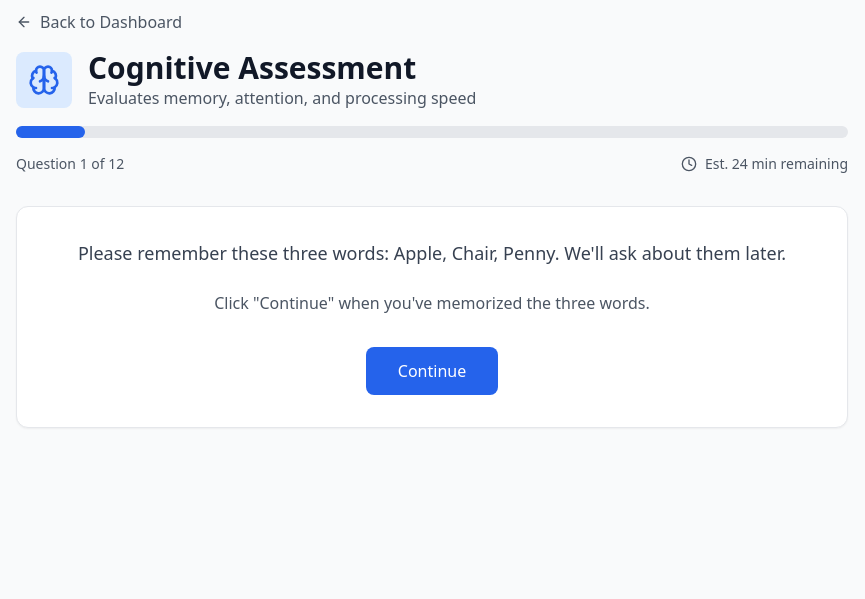
Test case: AssessmentPage › handles text input responses
// Navigate to second question (text input)
Click the button "Continue". click: (432, 371)
box: [366,347,498,395]
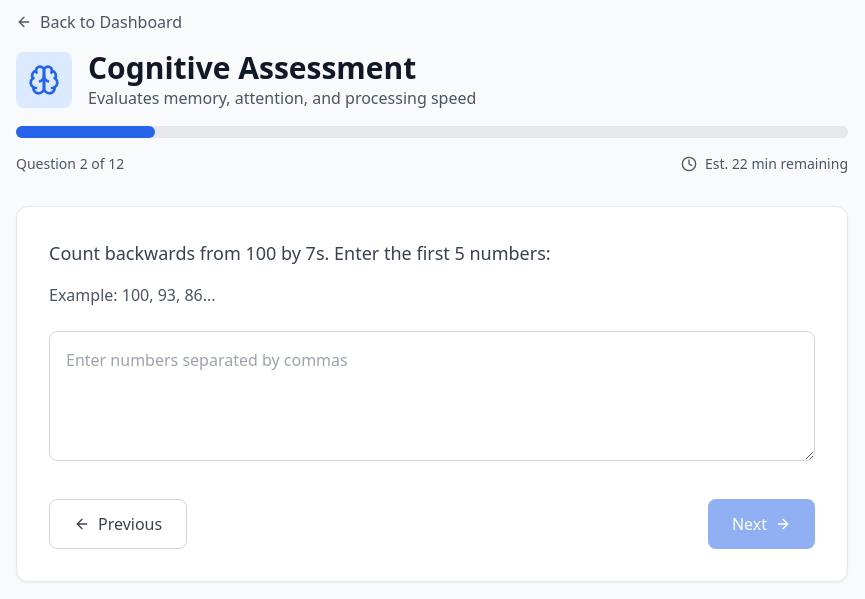
Check: the text box with placeholder "Enter numbers separated by commas" is shown
Type "100, 93, 86, 79, 72" into the text box with placeholder "Enter numbers separated by commas". click: (432, 396)
box: [49,331,815,461]
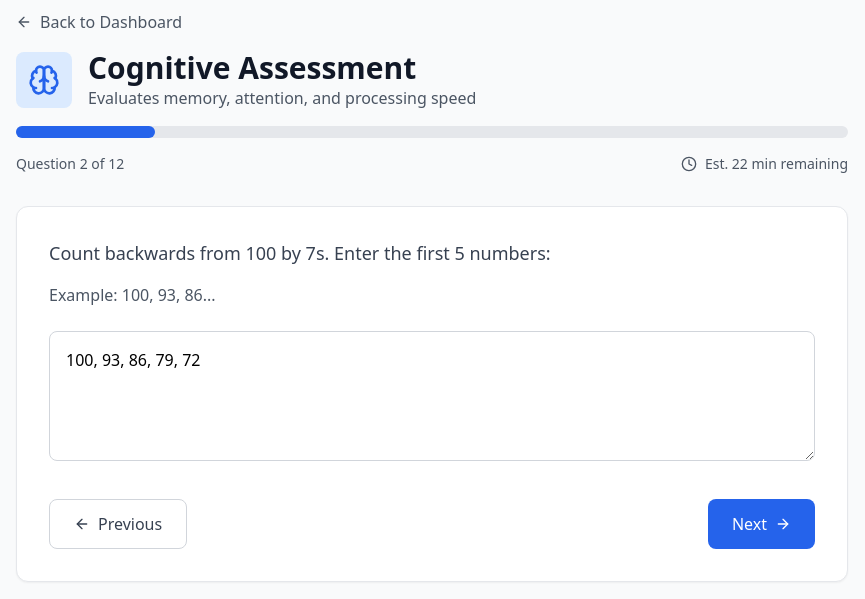
Check: the button "Next" is enabled, box [708,499,815,549]
